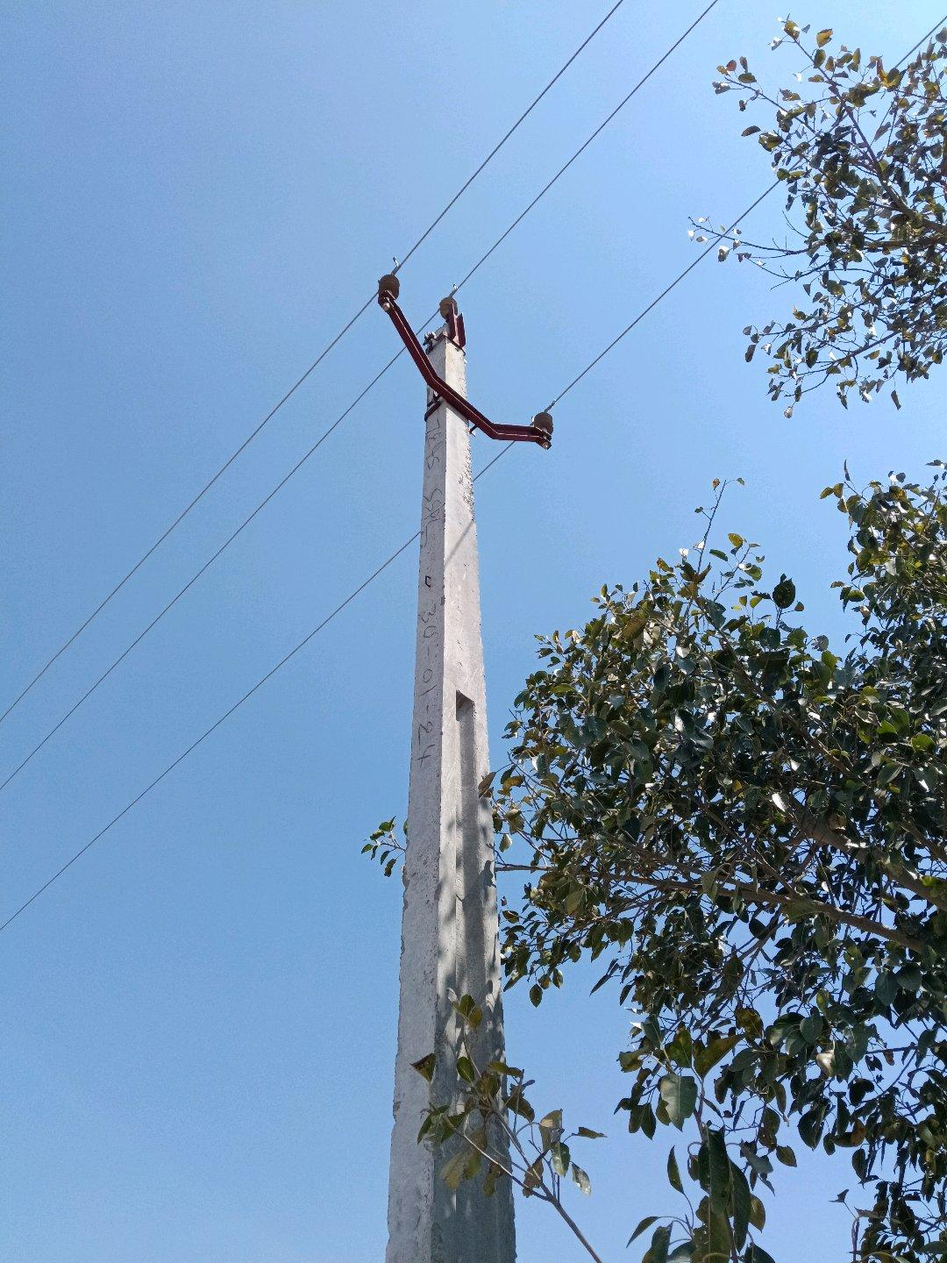{"0" "insulator", "1" "pole", "2" "crossarm", "3" "conductor", "4" "street_: (377, 275, 552, 1262), (569, 1128, 599, 1141)
